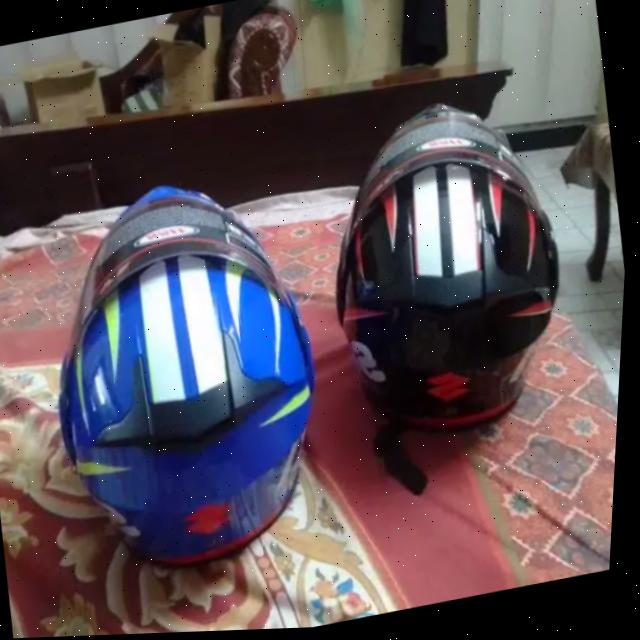Helmet: (16, 150, 361, 580), (308, 85, 593, 449)
